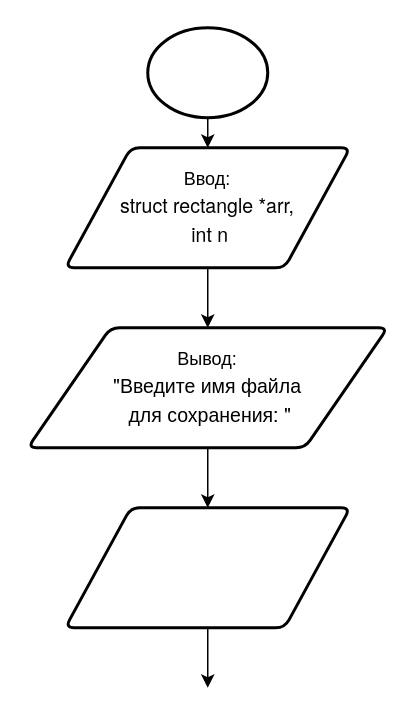
This 414x726 diagram has some shape labels left out. Here are the shapes that lost their labels. From the top down, the box of each, then its label:
(146, 26, 268, 118): Начало
(63, 506, 351, 628): Ввод: filename
